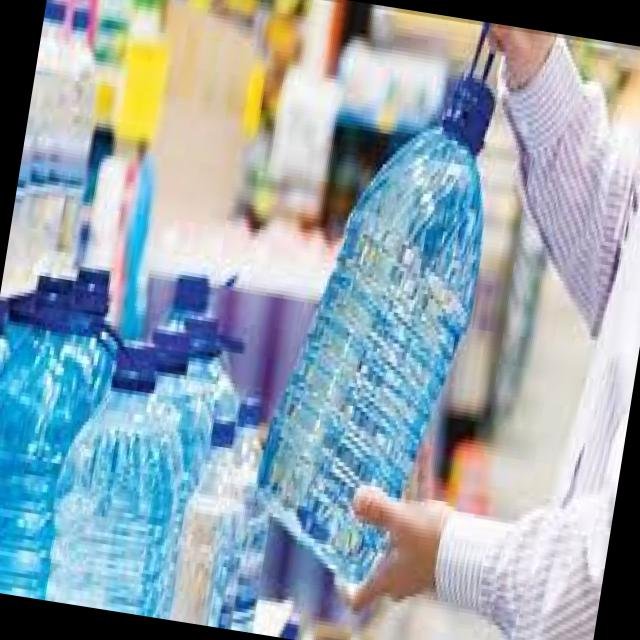Galon: (237, 67, 518, 624)
